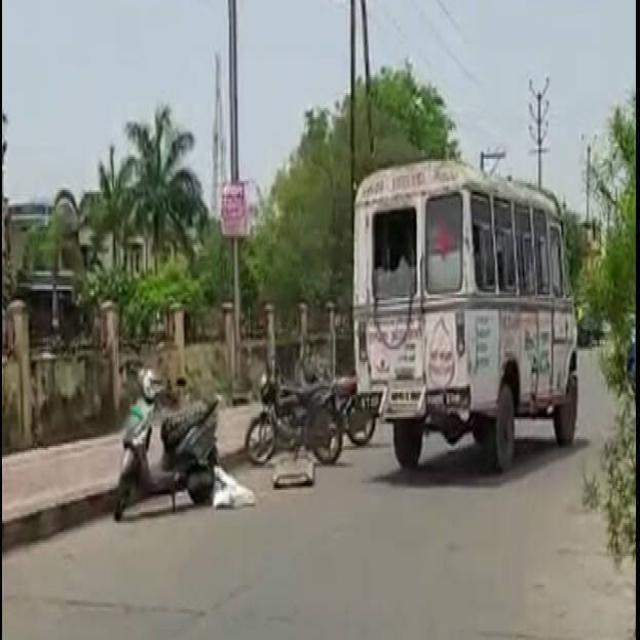bus: (354, 160, 579, 468)
motorcycle: (114, 369, 254, 520), (245, 376, 342, 463)
